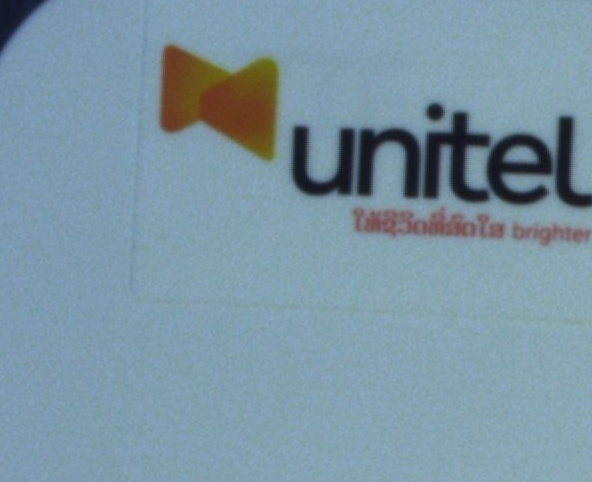BT_unitel: (159, 43, 587, 244)
